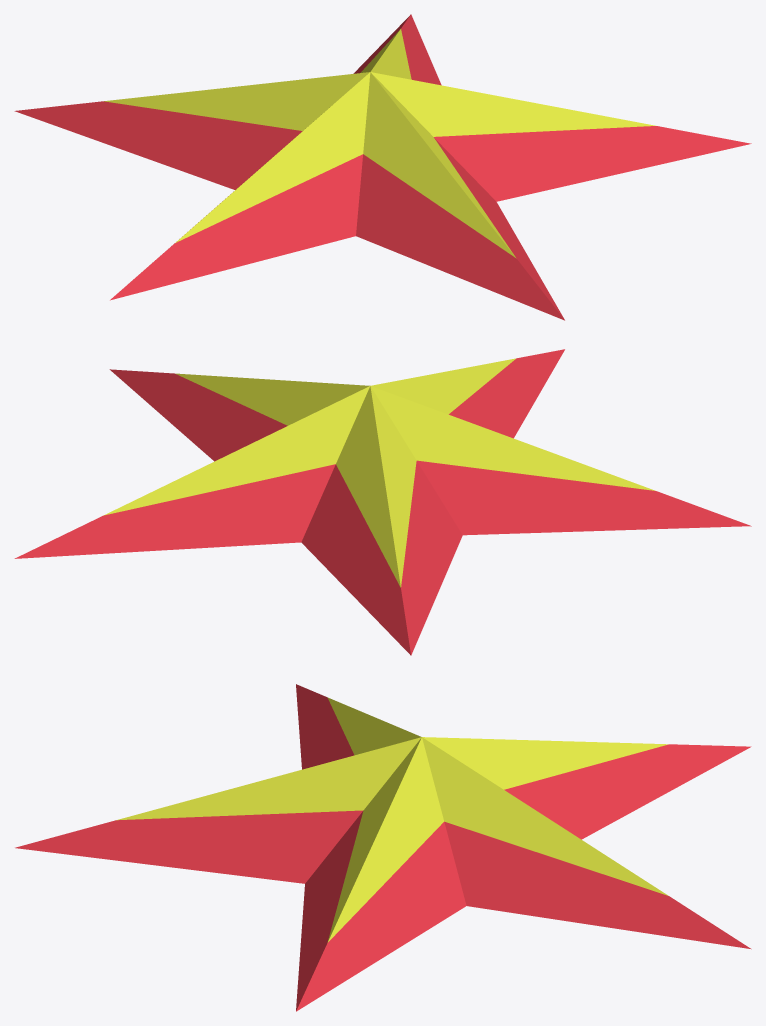
File: untitle2d1.fbx
3 views of the same model, one above another, from view 1: azimuth 30°, elevation 25°; view 2: azimuth 150°, elevation 25°; view 3: azimuth 270°, elevation 25° (orthographic). The views are drawn at different scales.
Parts seen in each view (by area): view 1: Cone; view 2: Cone; view 3: Cone.
Part boxes in pixels (bbox=[...]): Cone: bbox=[14, 14, 751, 320]; Cone: bbox=[14, 349, 751, 655]; Cone: bbox=[15, 684, 751, 1011].
Size of the model in its own units: 190 by 30 by 181.
